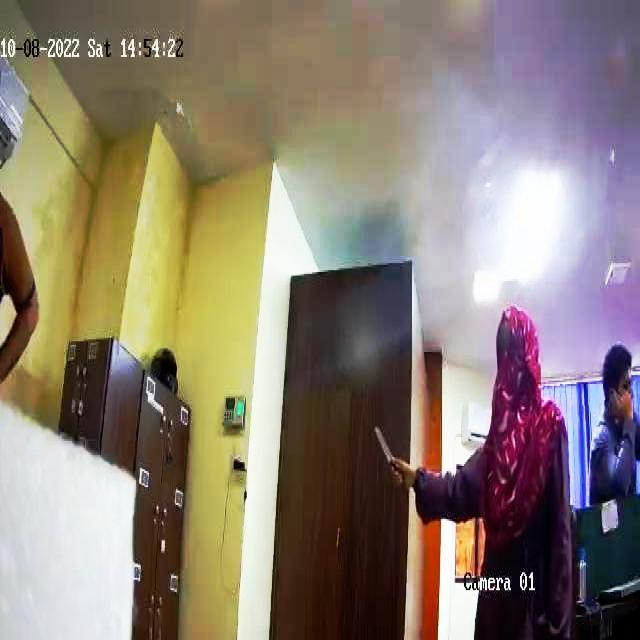Knife: (366, 422, 398, 475)
